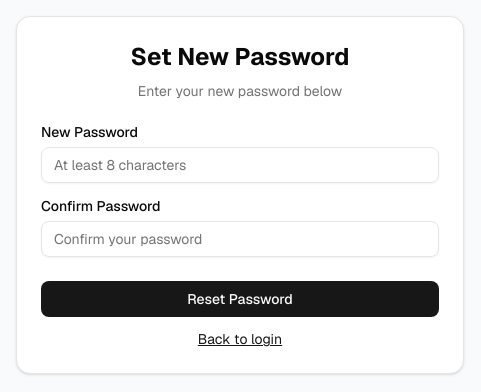
Scenario: ResetPasswordPage › shows success message after successful reset
In the password field labelled "New Password": (240, 165) [41, 147, 439, 183], type "newpass12345"
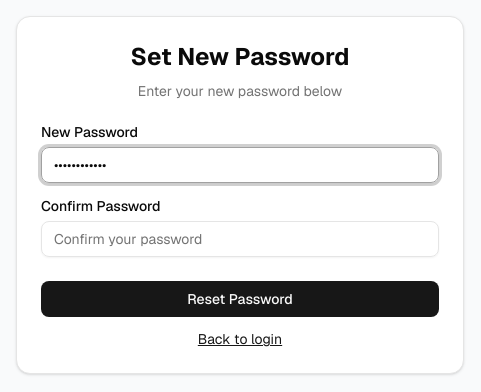
In the password field labelled "Confirm Password": (240, 239) [41, 221, 439, 257], type "newpass12345"
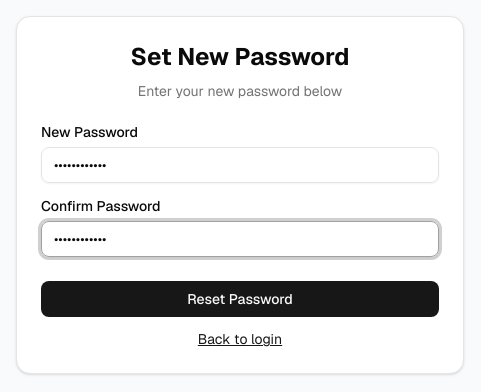
Click the button "Reset Password": click(240, 299) [41, 281, 439, 317]
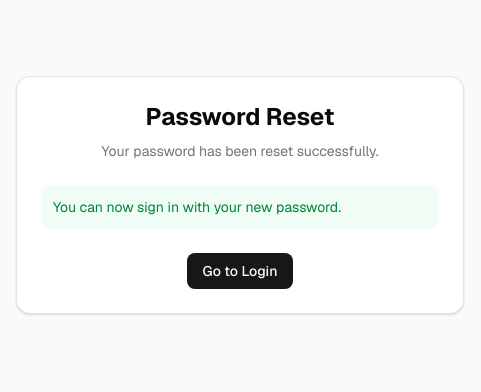
Now the text "Password Reset" is shown, box [146, 101, 334, 132]
Now the text "Your password has been reset successfully." is shown, box [102, 142, 378, 160]
